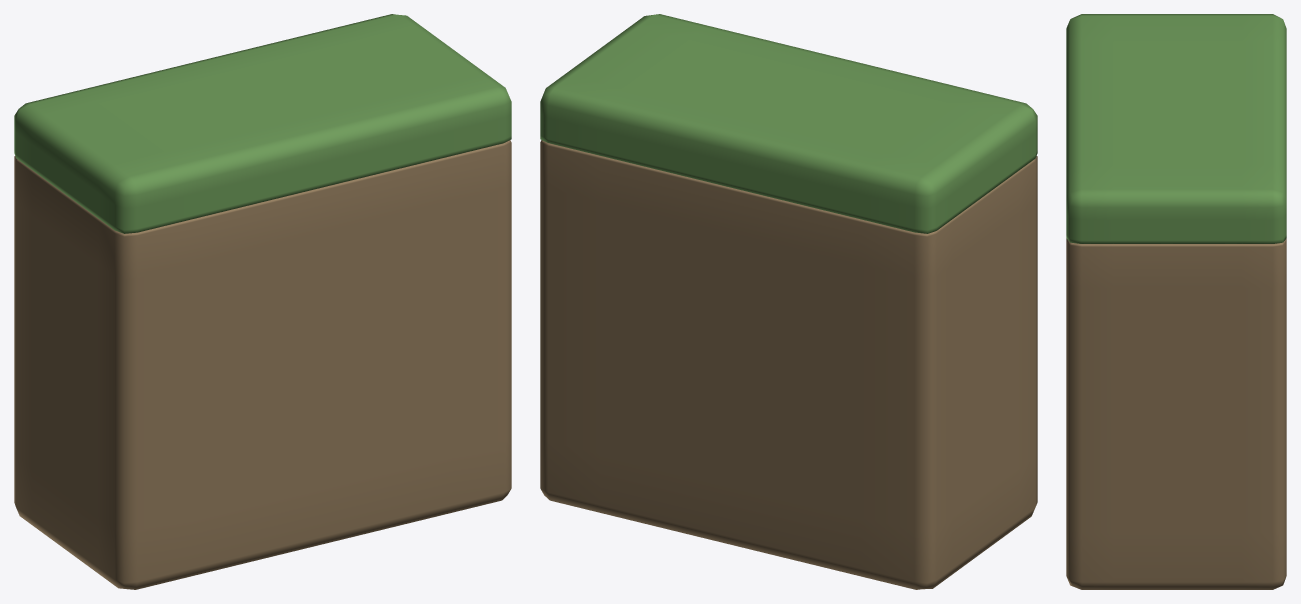
File: plataforma_alta.fbx
3 renders of one model, left to right at view 1: azimuth 30°, elevation 25°; view 2: azimuth 150°, elevation 25°; view 3: azimuth 270°, elevation 25°, orthographic. The views are drawn at different scales.
Visible parts, largest first — view 1: pCube3; view 2: pCube3; view 3: pCube3.
Part boxes in pixels (<box>): pCube3: <box>14,14,511,589</box>; pCube3: <box>540,14,1037,589</box>; pCube3: <box>1066,14,1286,589</box>.
Bounding box in the file's own units: 8 × 8 × 4.
